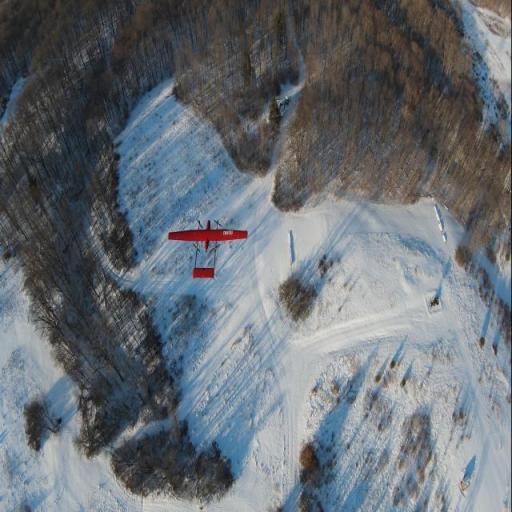uav: (171, 213, 254, 286)
